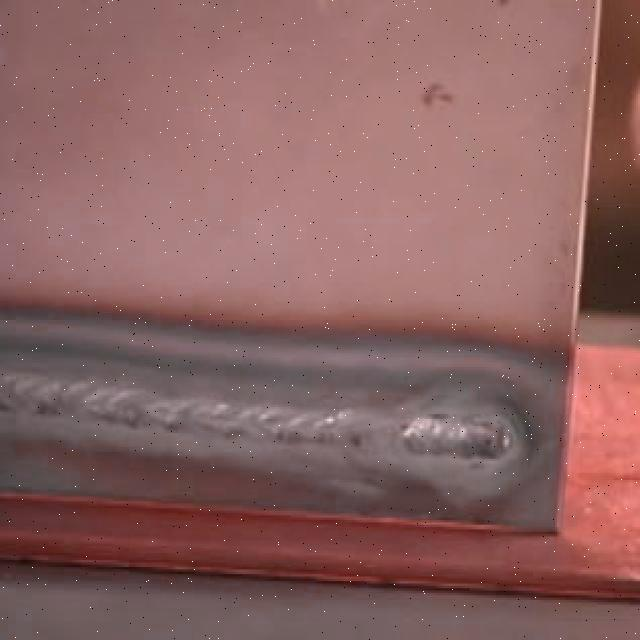Good Welding: (402, 415, 516, 459)
